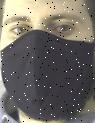with_mask: (1, 2, 95, 123)
